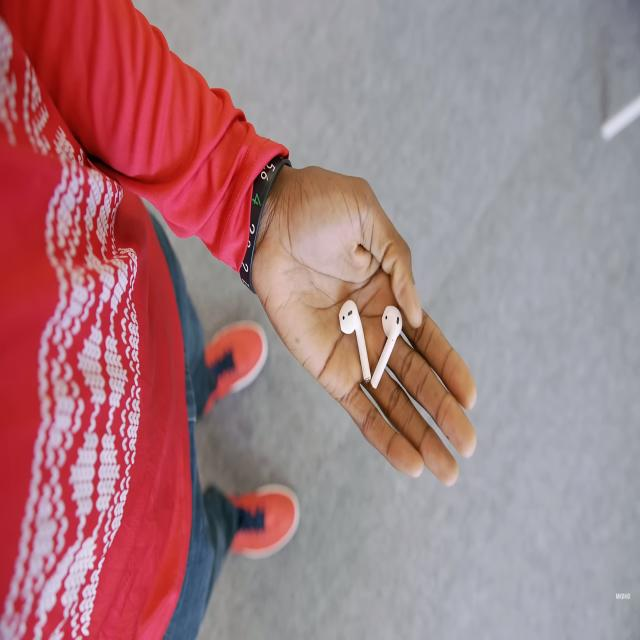airpods: (370, 305, 403, 391), (339, 299, 371, 384)
